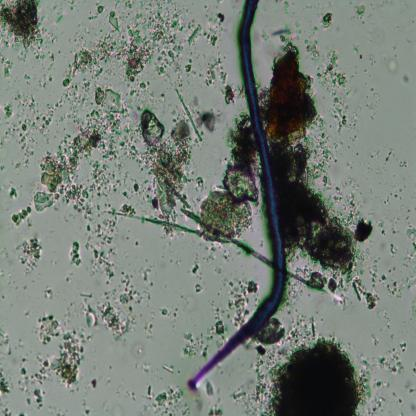Background material: (275, 139, 374, 299), (249, 336, 369, 415), (134, 204, 275, 270), (32, 112, 119, 216), (192, 121, 256, 242), (264, 36, 326, 141), (139, 107, 191, 218), (124, 3, 183, 81), (58, 38, 118, 104), (99, 270, 155, 339), (318, 46, 360, 134), (0, 0, 50, 59), (13, 92, 55, 162), (379, 226, 416, 302), (83, 216, 118, 285), (53, 329, 89, 389), (260, 316, 316, 348), (20, 355, 52, 408), (222, 276, 258, 322), (182, 92, 215, 139), (146, 382, 189, 416), (207, 56, 236, 106), (184, 12, 226, 46), (94, 85, 126, 119), (12, 238, 43, 272), (118, 119, 142, 162), (376, 343, 408, 374), (182, 330, 214, 359), (351, 277, 378, 311), (35, 314, 62, 346), (78, 291, 99, 329), (371, 378, 390, 414), (10, 207, 34, 228), (211, 312, 228, 340), (106, 9, 123, 36), (121, 178, 142, 198), (126, 80, 148, 99), (68, 239, 82, 267), (0, 367, 14, 394), (87, 3, 105, 24), (0, 54, 15, 79), (0, 326, 12, 356), (353, 2, 369, 23), (117, 201, 136, 218), (318, 12, 335, 30), (42, 284, 55, 302), (387, 56, 399, 75), (188, 260, 200, 278), (161, 306, 178, 318), (3, 102, 14, 119), (8, 186, 18, 200), (90, 376, 98, 390), (194, 284, 204, 294)
Microfibre: (186, 0, 284, 390)
